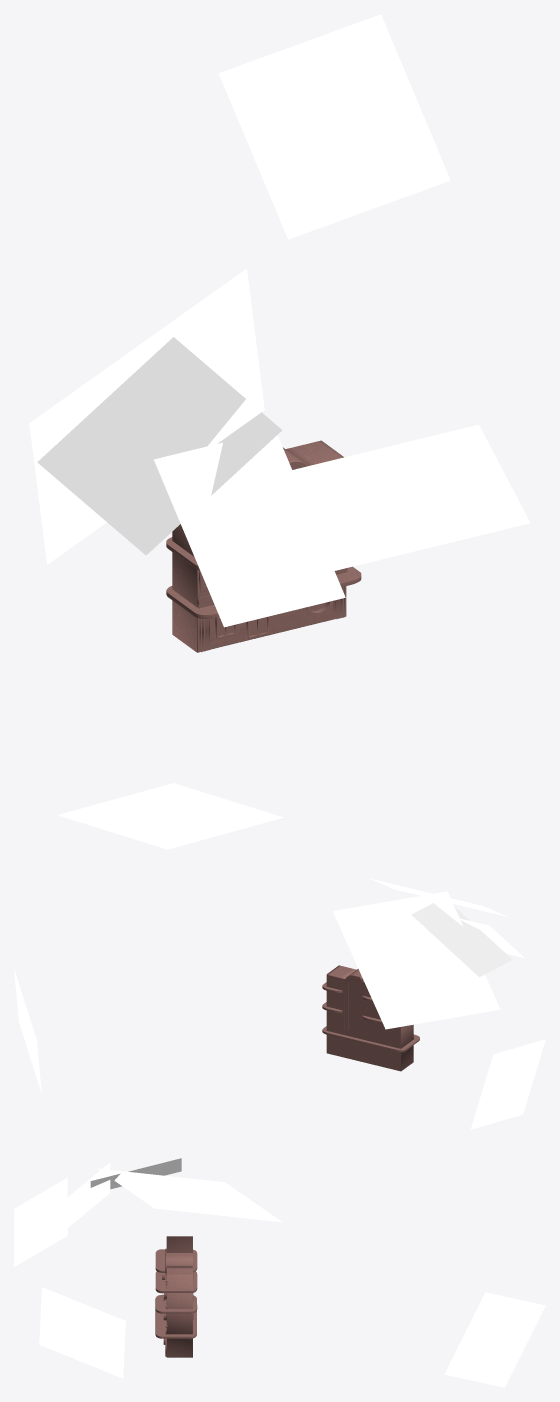
Rendered from Crescent_1.glb.
The picture shows the model from 3 angles, top to bottom: view 1: azimuth 30°, elevation 25°; view 2: azimuth 150°, elevation 25°; view 3: azimuth 270°, elevation 25°; orthographic projection. The views are drawn at different scales.
Parts seen in each view (by area): view 1: Plane.005, Plane.003, Plane.002, Plane.001, Plane.014, Plane.004, Building.001; view 2: Plane.014, Building.001, Plane.004, Plane.002, Plane.005, Plane.001, Plane.003, Curve.001, Curve.002; view 3: Plane.005, Plane.004, Plane.014, Plane.003, Building.001, Plane.001, Plane.002, Curve.001, Curve.002, Curve.062, Curve.065, Curve.003.
Part boxes in pixels (<box>): Plane.005: <box>218,14,450,239</box>; Plane.003: <box>248,424,530,579</box>; Plane.002: <box>37,337,282,555</box>; Plane.001: <box>153,435,345,627</box>; Plane.014: <box>29,268,264,564</box>; Plane.004: <box>57,783,283,849</box>; Building.001: <box>172,440,346,652</box>; Plane.014: <box>332,891,500,1029</box>; Building.001: <box>326,965,413,1071</box>; Plane.004: <box>470,1039,545,1129</box>; Plane.002: <box>411,903,512,977</box>; Plane.005: <box>14,969,41,1093</box>; Plane.001: <box>460,918,524,957</box>; Plane.003: <box>370,878,508,917</box>; Curve.001: <box>322,1026,419,1051</box>; Curve.002: <box>344,969,363,1030</box>; Plane.005: <box>444,1292,545,1387</box>; Plane.004: <box>39,1287,125,1378</box>; Plane.014: <box>97,1168,282,1222</box>; Plane.003: <box>14,1177,67,1266</box>; Building.001: <box>166,1236,192,1357</box>; Plane.001: <box>67,1162,110,1227</box>; Plane.002: <box>90,1158,181,1189</box>; Curve.001: <box>155,1294,196,1338</box>; Curve.002: <box>165,1253,193,1319</box>; Curve.062: <box>155,1249,197,1272</box>; Curve.065: <box>155,1300,197,1313</box>; Curve.003: <box>155,1280,197,1292</box>.
Size of the model in its own units: 13.12 by 8.34 by 16.65.
7 materials, 1 textured.
